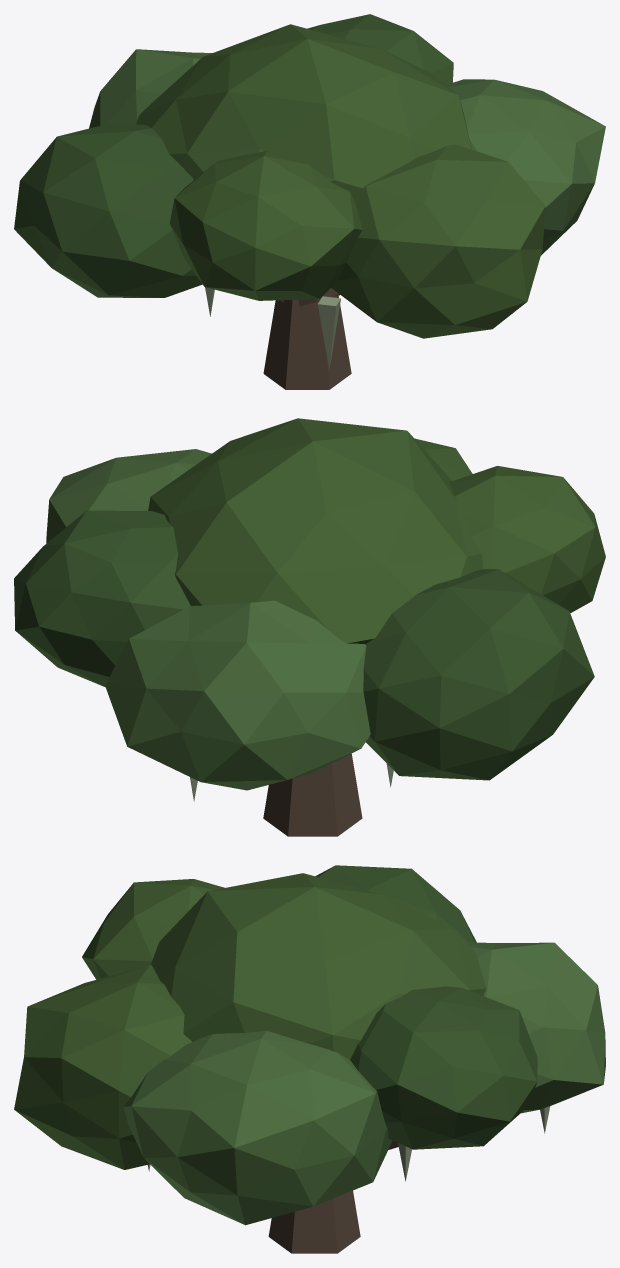
Rendered from tree-live-oak.glb.
3 views of the same model, one above another, from view 1: azimuth 30°, elevation 25°; view 2: azimuth 150°, elevation 25°; view 3: azimuth 270°, elevation 25° (orthographic). The views are drawn at different scales.
Visible parts, largest first — view 1: tree; view 2: tree; view 3: tree.
Part boxes in pixels (bbox=[...]): tree: bbox=[14, 14, 605, 389]; tree: bbox=[14, 418, 605, 836]; tree: bbox=[14, 865, 605, 1253].
Bounding box in the file's own units: 0.3457 × 0.218 × 0.3343.
